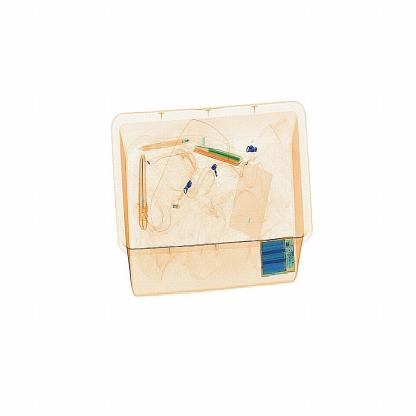pliers: (134, 152, 151, 230)
